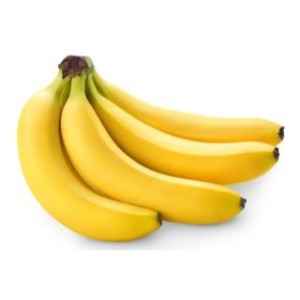banana_brain food: (20, 99, 219, 217)
